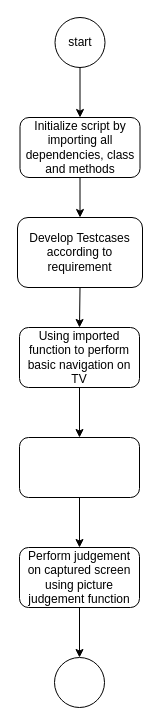
Image size: 160x725. Some labels were removed from this diagram. Here are the shapes that lost their labels. From the top down, the centre of each, then its label:
the point at 79,467: Capture screen to be judged
the point at 79,682: end
